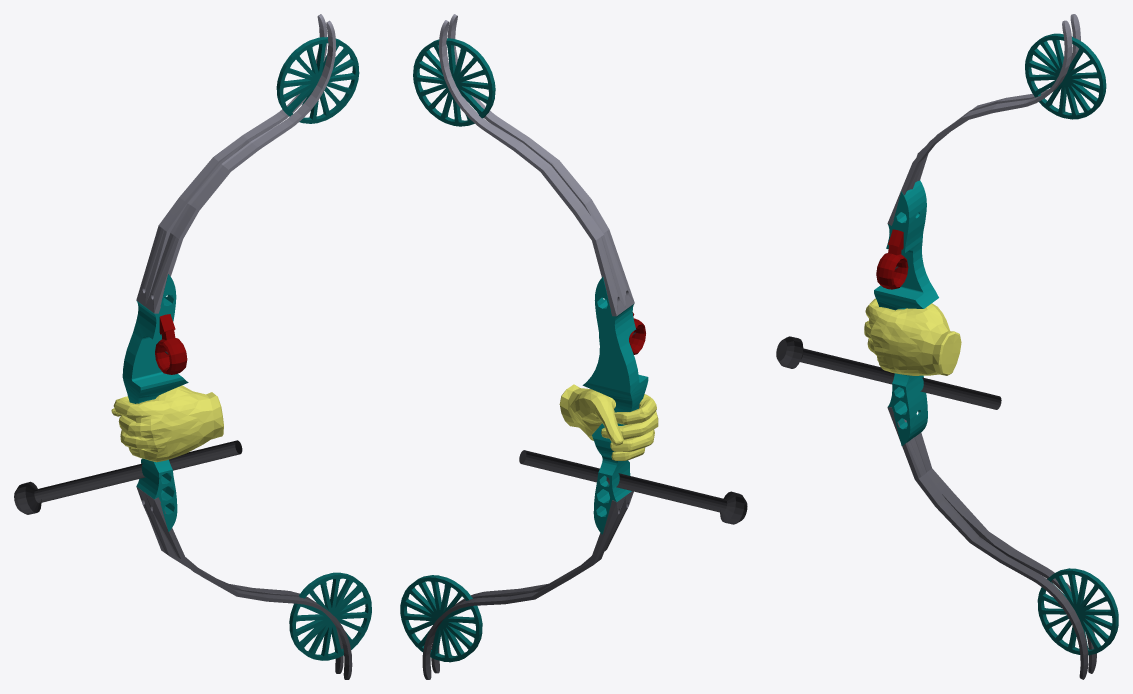
Rendered from arcoTENSADO.fbx.
The picture shows the model from 3 angles, left to right: view 1: azimuth 30°, elevation 25°; view 2: azimuth 150°, elevation 25°; view 3: azimuth 330°, elevation 25°; orthographic projection.
Parts seen in each view (by area): view 1: Torus.003; view 2: Torus.003; view 3: Torus.003.
Part boxes in pixels (x1=…): Torus.003: x1=14, y1=14, x2=371, y2=679; Torus.003: x1=400, y1=14, x2=747, y2=679; Torus.003: x1=776, y1=14, x2=1118, y2=679.
Size of the model in its own units: 63.6 by 117 by 14.54.
Materials: 1 (1 with a texture image).
